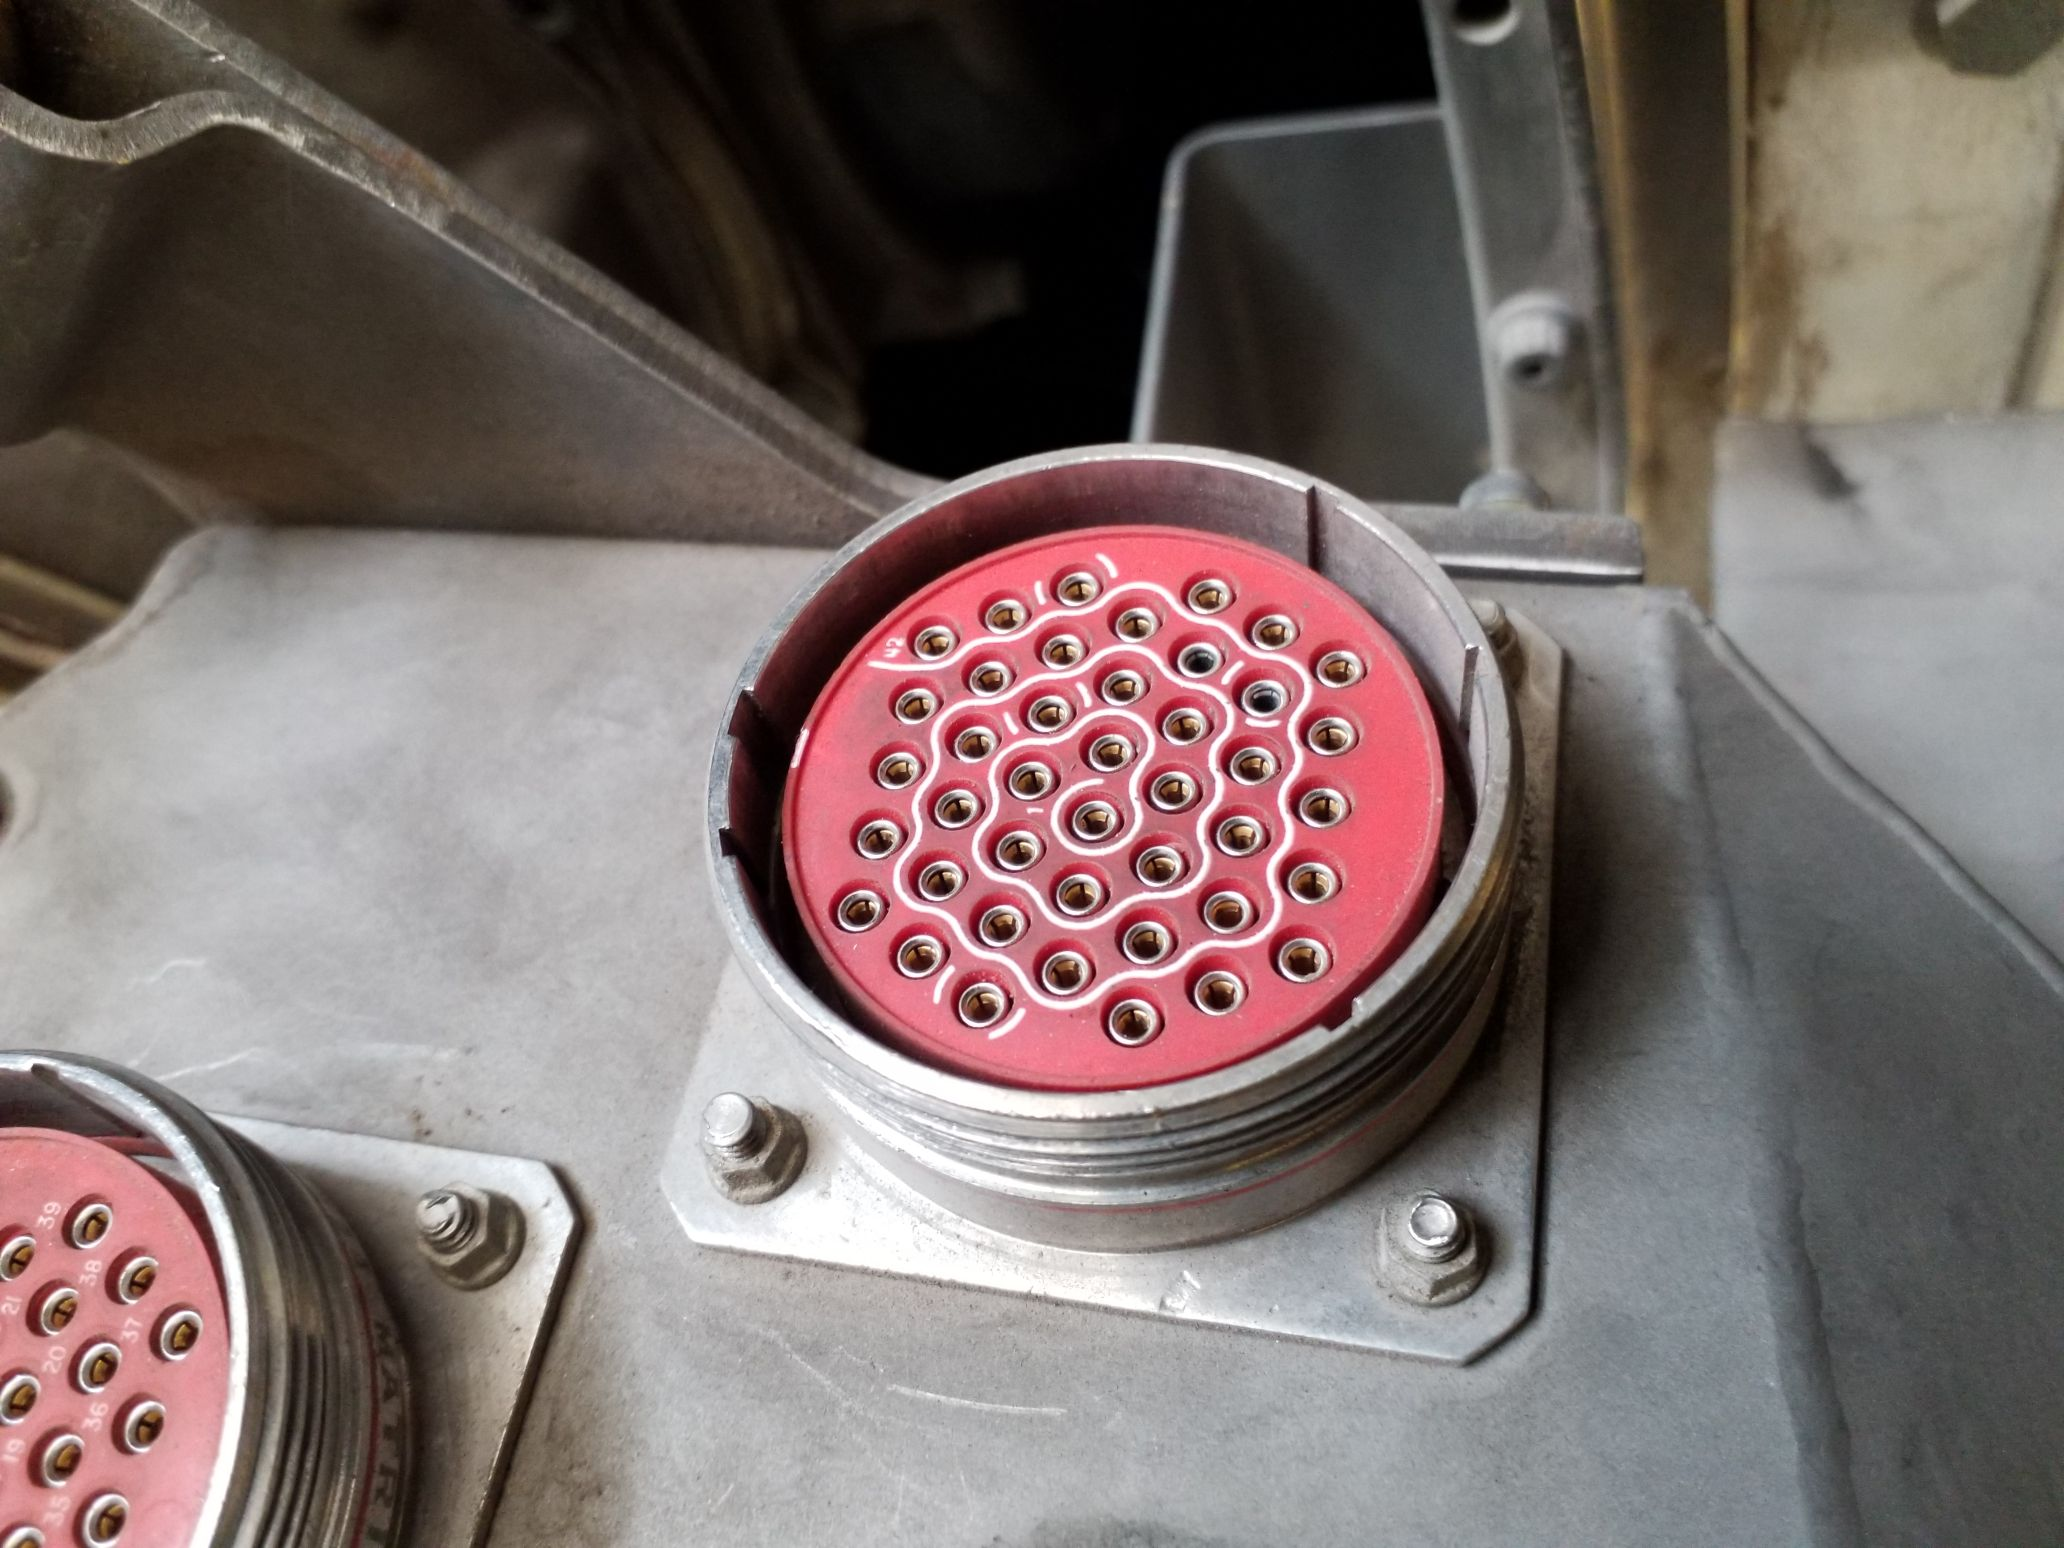inletnumbers: (2, 1023, 323, 1540)
inletround: (684, 428, 1568, 1198)
